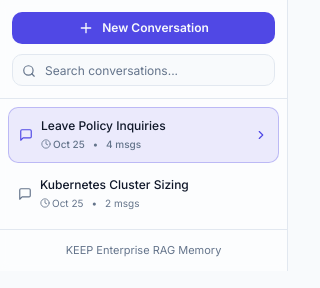
Test: Phase 2.2 AI Knowledge Search & RAG UI Components › SessionHistorySidebar Component › filters sessions by search term
The image size is (320, 288).
Type "Kubernetes" into the field with test id "input-search-sessions" at [144, 70], box [12,54,275,86]
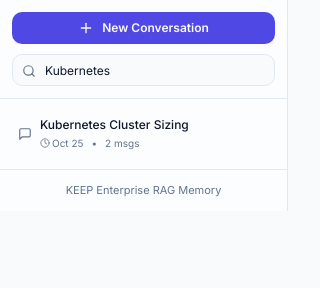
Expected: the text "Kubernetes Cluster Sizing" is shown, [40,117,189,132]
Expected: the button "Leave Policy Inquiries" is gone
